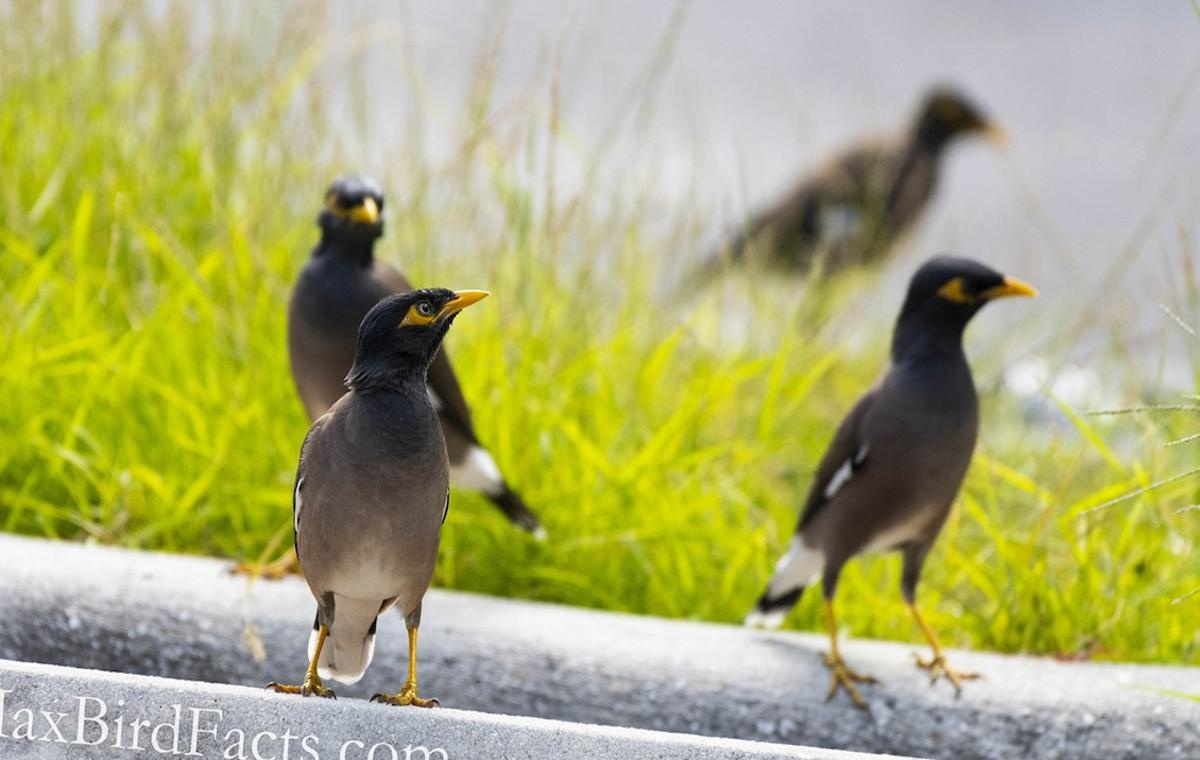myna: (757, 192, 1088, 691), (263, 268, 518, 704)
